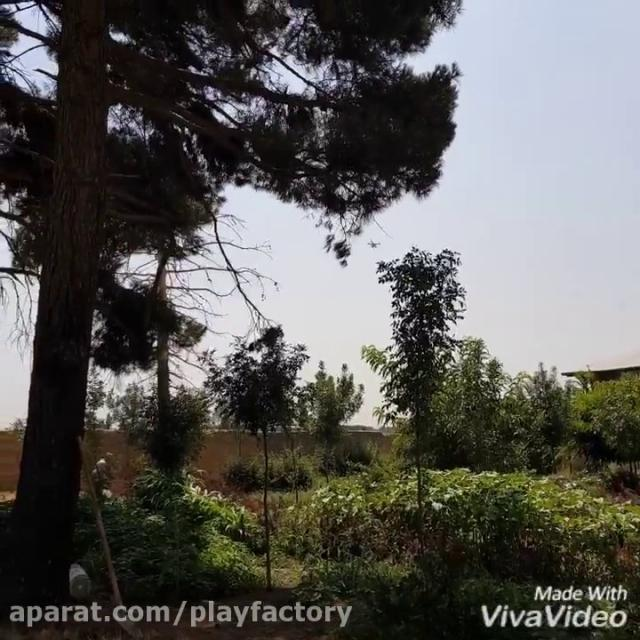drone: (363, 234, 385, 250)
